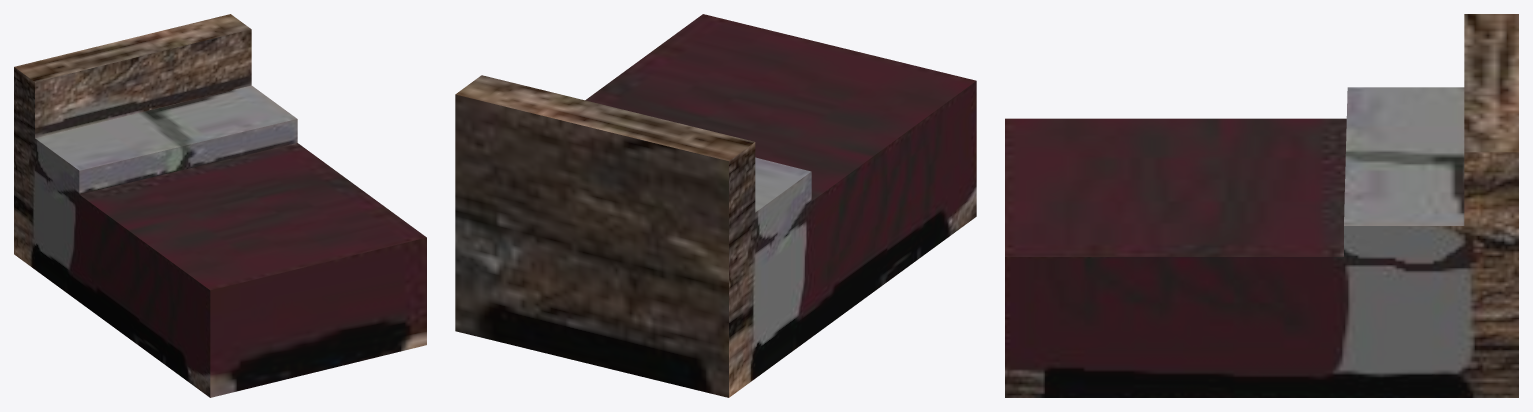
The model's file is bed.fbx.
3 views of the same model, side by side, from view 1: azimuth 30°, elevation 25°; view 2: azimuth 150°, elevation 25°; view 3: azimuth 270°, elevation 25° (orthographic). The views are drawn at different scales.
Visible parts, largest first — view 1: Cube; view 2: Cube; view 3: Cube.
Boxes of the visible parts, left/top/right/bottom form: Cube: left=14, top=14, right=426, bottom=397; Cube: left=455, top=14, right=976, bottom=397; Cube: left=1005, top=14, right=1518, bottom=397.
Size of the model in its own units: 2.63 by 2.17 by 4.12.
